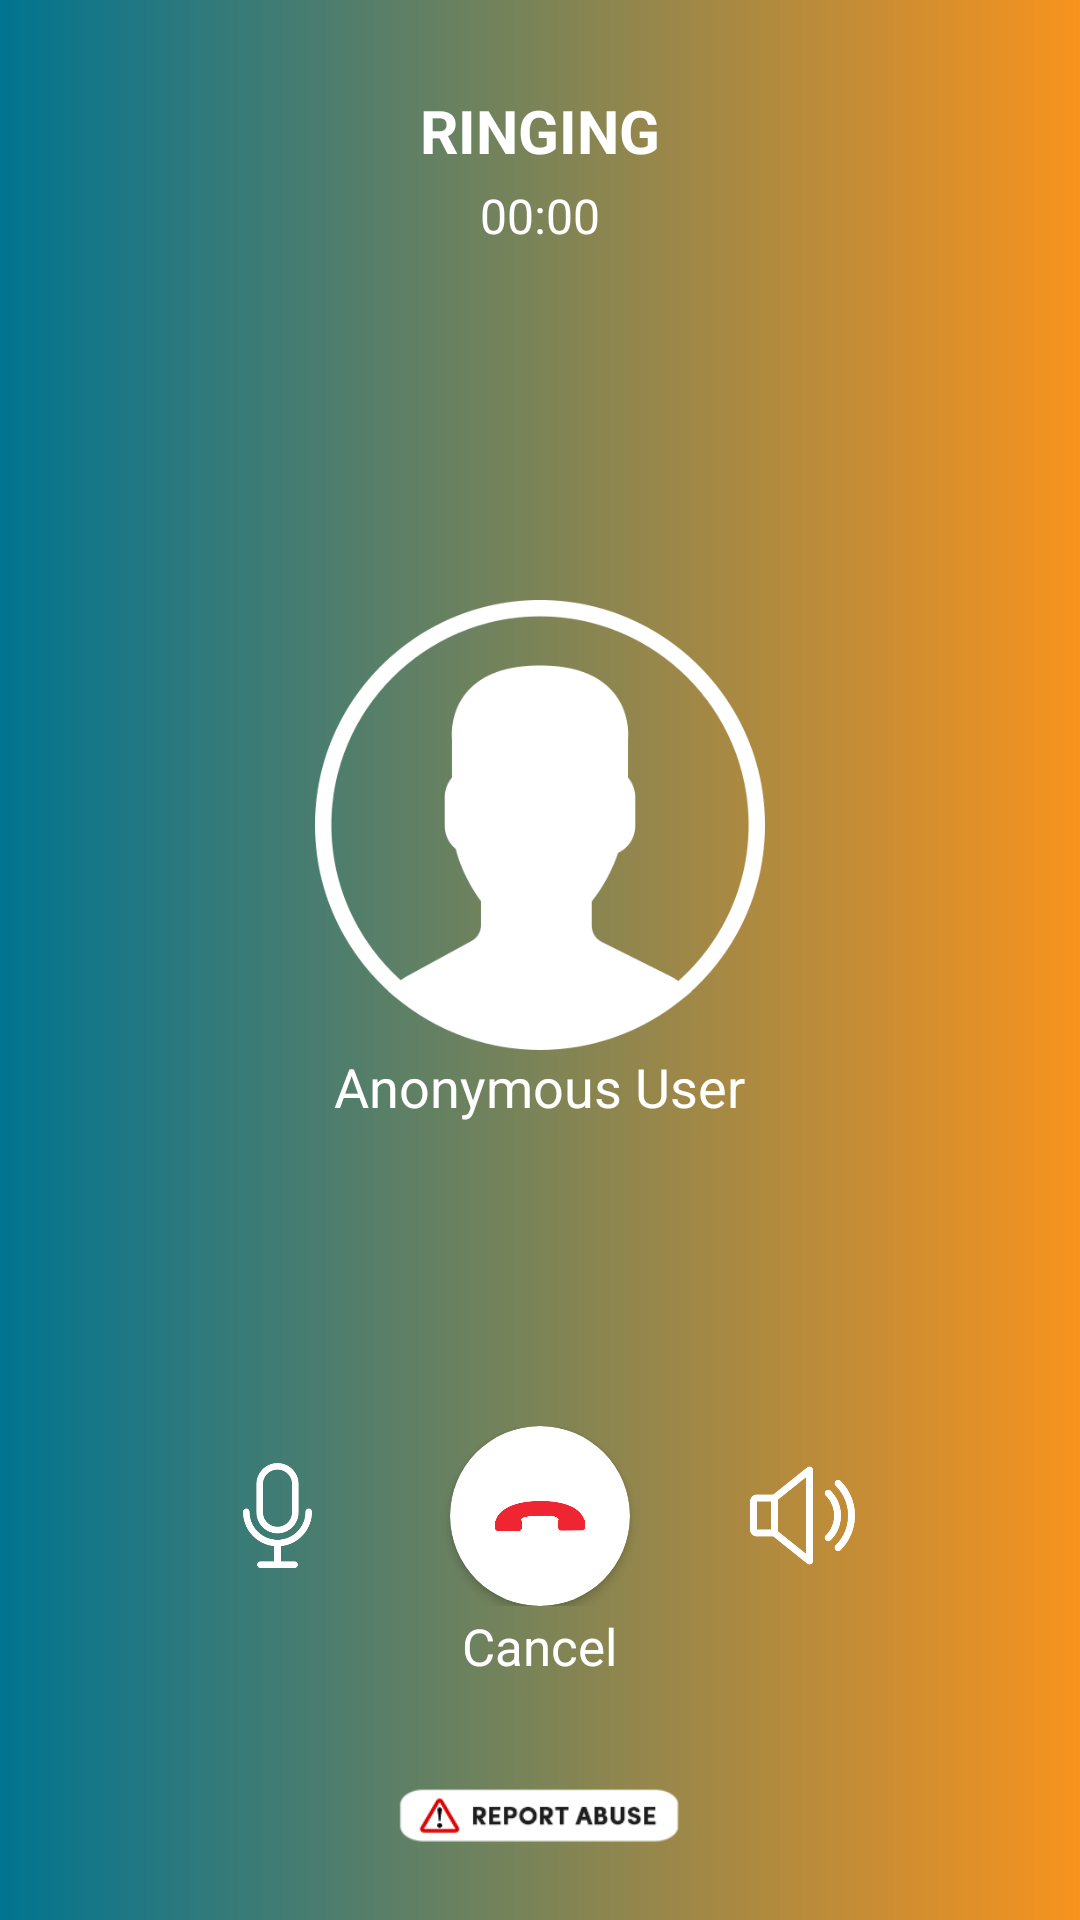

Where icons sit on this 1080 x 1920 app screen, as (x1, y1, x2, y2):
call down: (495, 1501, 585, 1531)
speaker: (750, 1463, 855, 1568)
unmute: (225, 1463, 312, 1568)
